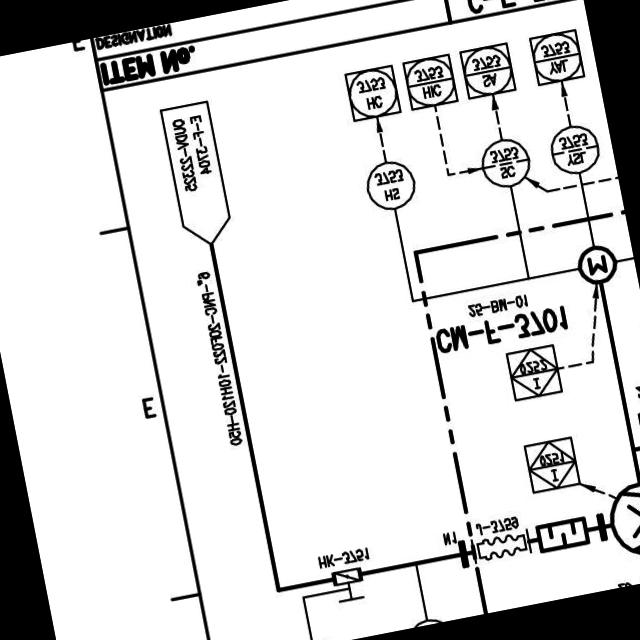BV: (326, 563, 371, 608)
C: (602, 474, 640, 564)
EJ: (466, 526, 535, 568)
M: (573, 242, 622, 290)
